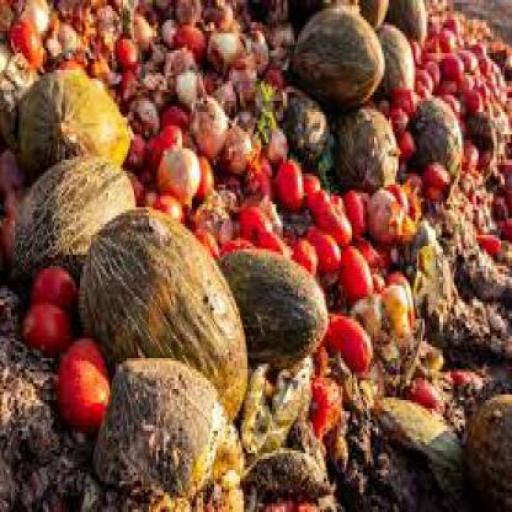biodegradable: (74, 202, 244, 420), (88, 350, 242, 510), (9, 153, 134, 280), (15, 64, 133, 171), (216, 246, 324, 361), (293, 2, 381, 98), (376, 397, 466, 476), (240, 359, 313, 456), (462, 389, 510, 509), (330, 103, 394, 191), (237, 442, 329, 503), (54, 334, 106, 430), (407, 92, 458, 176), (282, 80, 324, 160), (186, 78, 224, 155), (154, 140, 198, 205), (418, 237, 450, 325), (0, 53, 30, 140), (333, 241, 375, 302), (28, 260, 74, 314), (328, 308, 370, 366), (16, 305, 70, 350), (182, 201, 229, 252), (5, 11, 43, 68), (364, 187, 402, 244), (204, 22, 246, 73), (309, 188, 348, 240), (387, 263, 415, 335), (307, 375, 340, 436), (220, 115, 255, 171), (303, 221, 339, 271), (142, 120, 177, 168), (423, 151, 456, 201), (232, 201, 266, 247), (382, 280, 408, 338), (271, 157, 300, 207), (261, 0, 292, 46), (172, 20, 205, 62), (240, 151, 270, 196), (386, 0, 425, 34), (408, 335, 441, 375), (0, 145, 26, 193), (465, 106, 501, 140), (126, 95, 162, 129), (236, 196, 272, 230), (58, 20, 87, 62), (341, 184, 367, 230), (248, 81, 270, 134), (404, 378, 442, 408), (287, 233, 319, 268), (255, 123, 285, 160), (244, 17, 266, 67), (400, 168, 422, 218), (123, 134, 149, 176), (91, 0, 118, 39), (145, 66, 174, 101), (408, 218, 434, 257), (140, 42, 171, 72), (156, 101, 186, 132), (352, 226, 384, 255), (172, 68, 198, 103), (356, 0, 390, 26), (197, 0, 231, 26), (436, 50, 462, 84), (164, 48, 193, 78), (474, 229, 503, 258), (266, 22, 290, 57), (436, 86, 462, 118), (387, 81, 415, 110), (16, 0, 47, 26), (112, 33, 135, 68), (128, 170, 149, 208), (126, 11, 151, 42), (75, 8, 99, 40), (413, 50, 437, 82), (449, 366, 478, 392), (257, 221, 281, 252), (0, 185, 26, 213), (229, 0, 255, 28), (113, 69, 138, 98), (192, 151, 210, 190), (52, 0, 87, 20), (458, 17, 486, 42), (172, 0, 198, 26), (152, 192, 178, 218), (206, 76, 232, 102), (320, 128, 334, 176), (0, 0, 17, 39), (206, 182, 231, 208), (86, 47, 108, 76), (298, 167, 316, 202), (471, 145, 495, 171), (480, 79, 505, 103), (387, 176, 404, 210), (412, 62, 430, 94), (42, 28, 64, 54), (456, 84, 482, 106), (397, 126, 412, 160), (369, 266, 387, 294), (439, 8, 458, 34), (387, 100, 404, 129), (134, 0, 158, 20), (266, 53, 283, 81), (229, 72, 250, 94), (229, 107, 253, 126), (493, 89, 510, 115), (493, 212, 510, 238), (493, 152, 510, 178), (142, 45, 164, 65), (1, 213, 9, 266), (492, 187, 506, 215), (430, 75, 456, 90), (156, 17, 171, 42), (493, 72, 510, 94), (458, 45, 476, 65), (229, 234, 251, 250), (462, 143, 478, 165), (500, 238, 510, 272), (500, 182, 510, 213), (438, 26, 452, 48), (458, 67, 475, 84), (421, 34, 439, 50), (156, 0, 171, 17), (472, 36, 486, 54), (476, 56, 490, 73), (424, 0, 449, 9), (484, 67, 496, 84), (142, 191, 155, 204), (408, 36, 415, 58)
